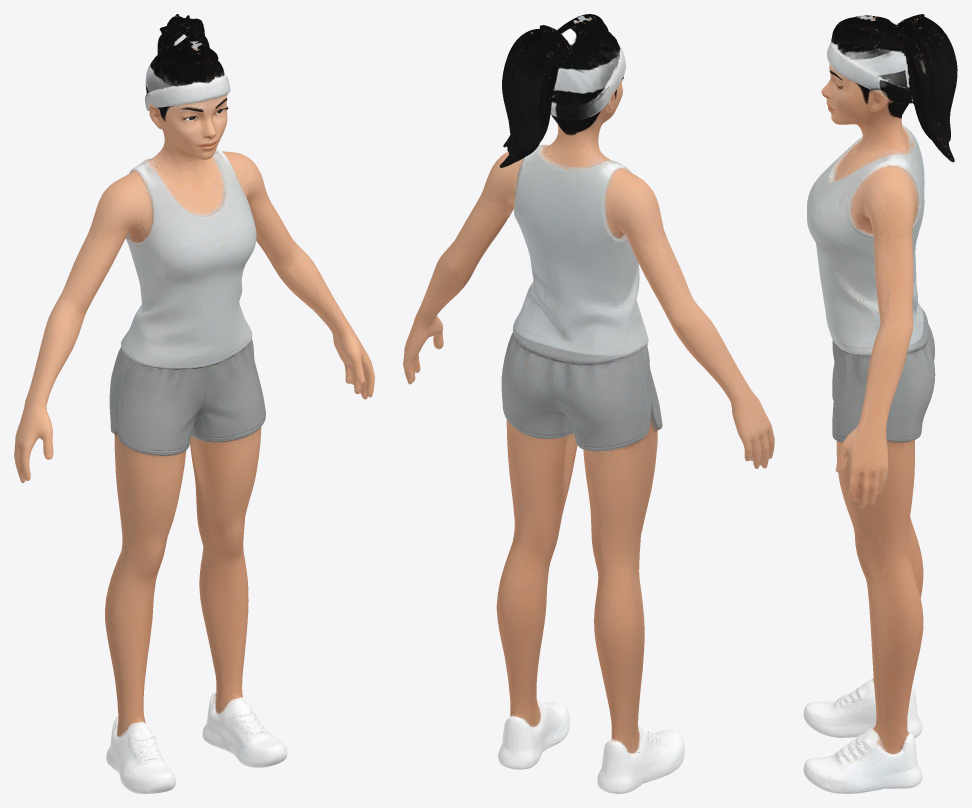
File: arch-band.glb
3 views of the same model, side by side, from view 1: azimuth 30°, elevation 25°; view 2: azimuth 150°, elevation 25°; view 3: azimuth 270°, elevation 25° (orthographic). The views are drawn at different scales.
Visible parts, largest first — view 1: char1; view 2: char1; view 3: char1.
Part boxes in pixels (x1,y1,x2,y2): char1: (14, 14, 374, 793); char1: (403, 14, 774, 793); char1: (803, 14, 957, 793).
Size of the model in its own units: 0.8123 by 1.6 by 0.2976.
1 material, 1 textured.
